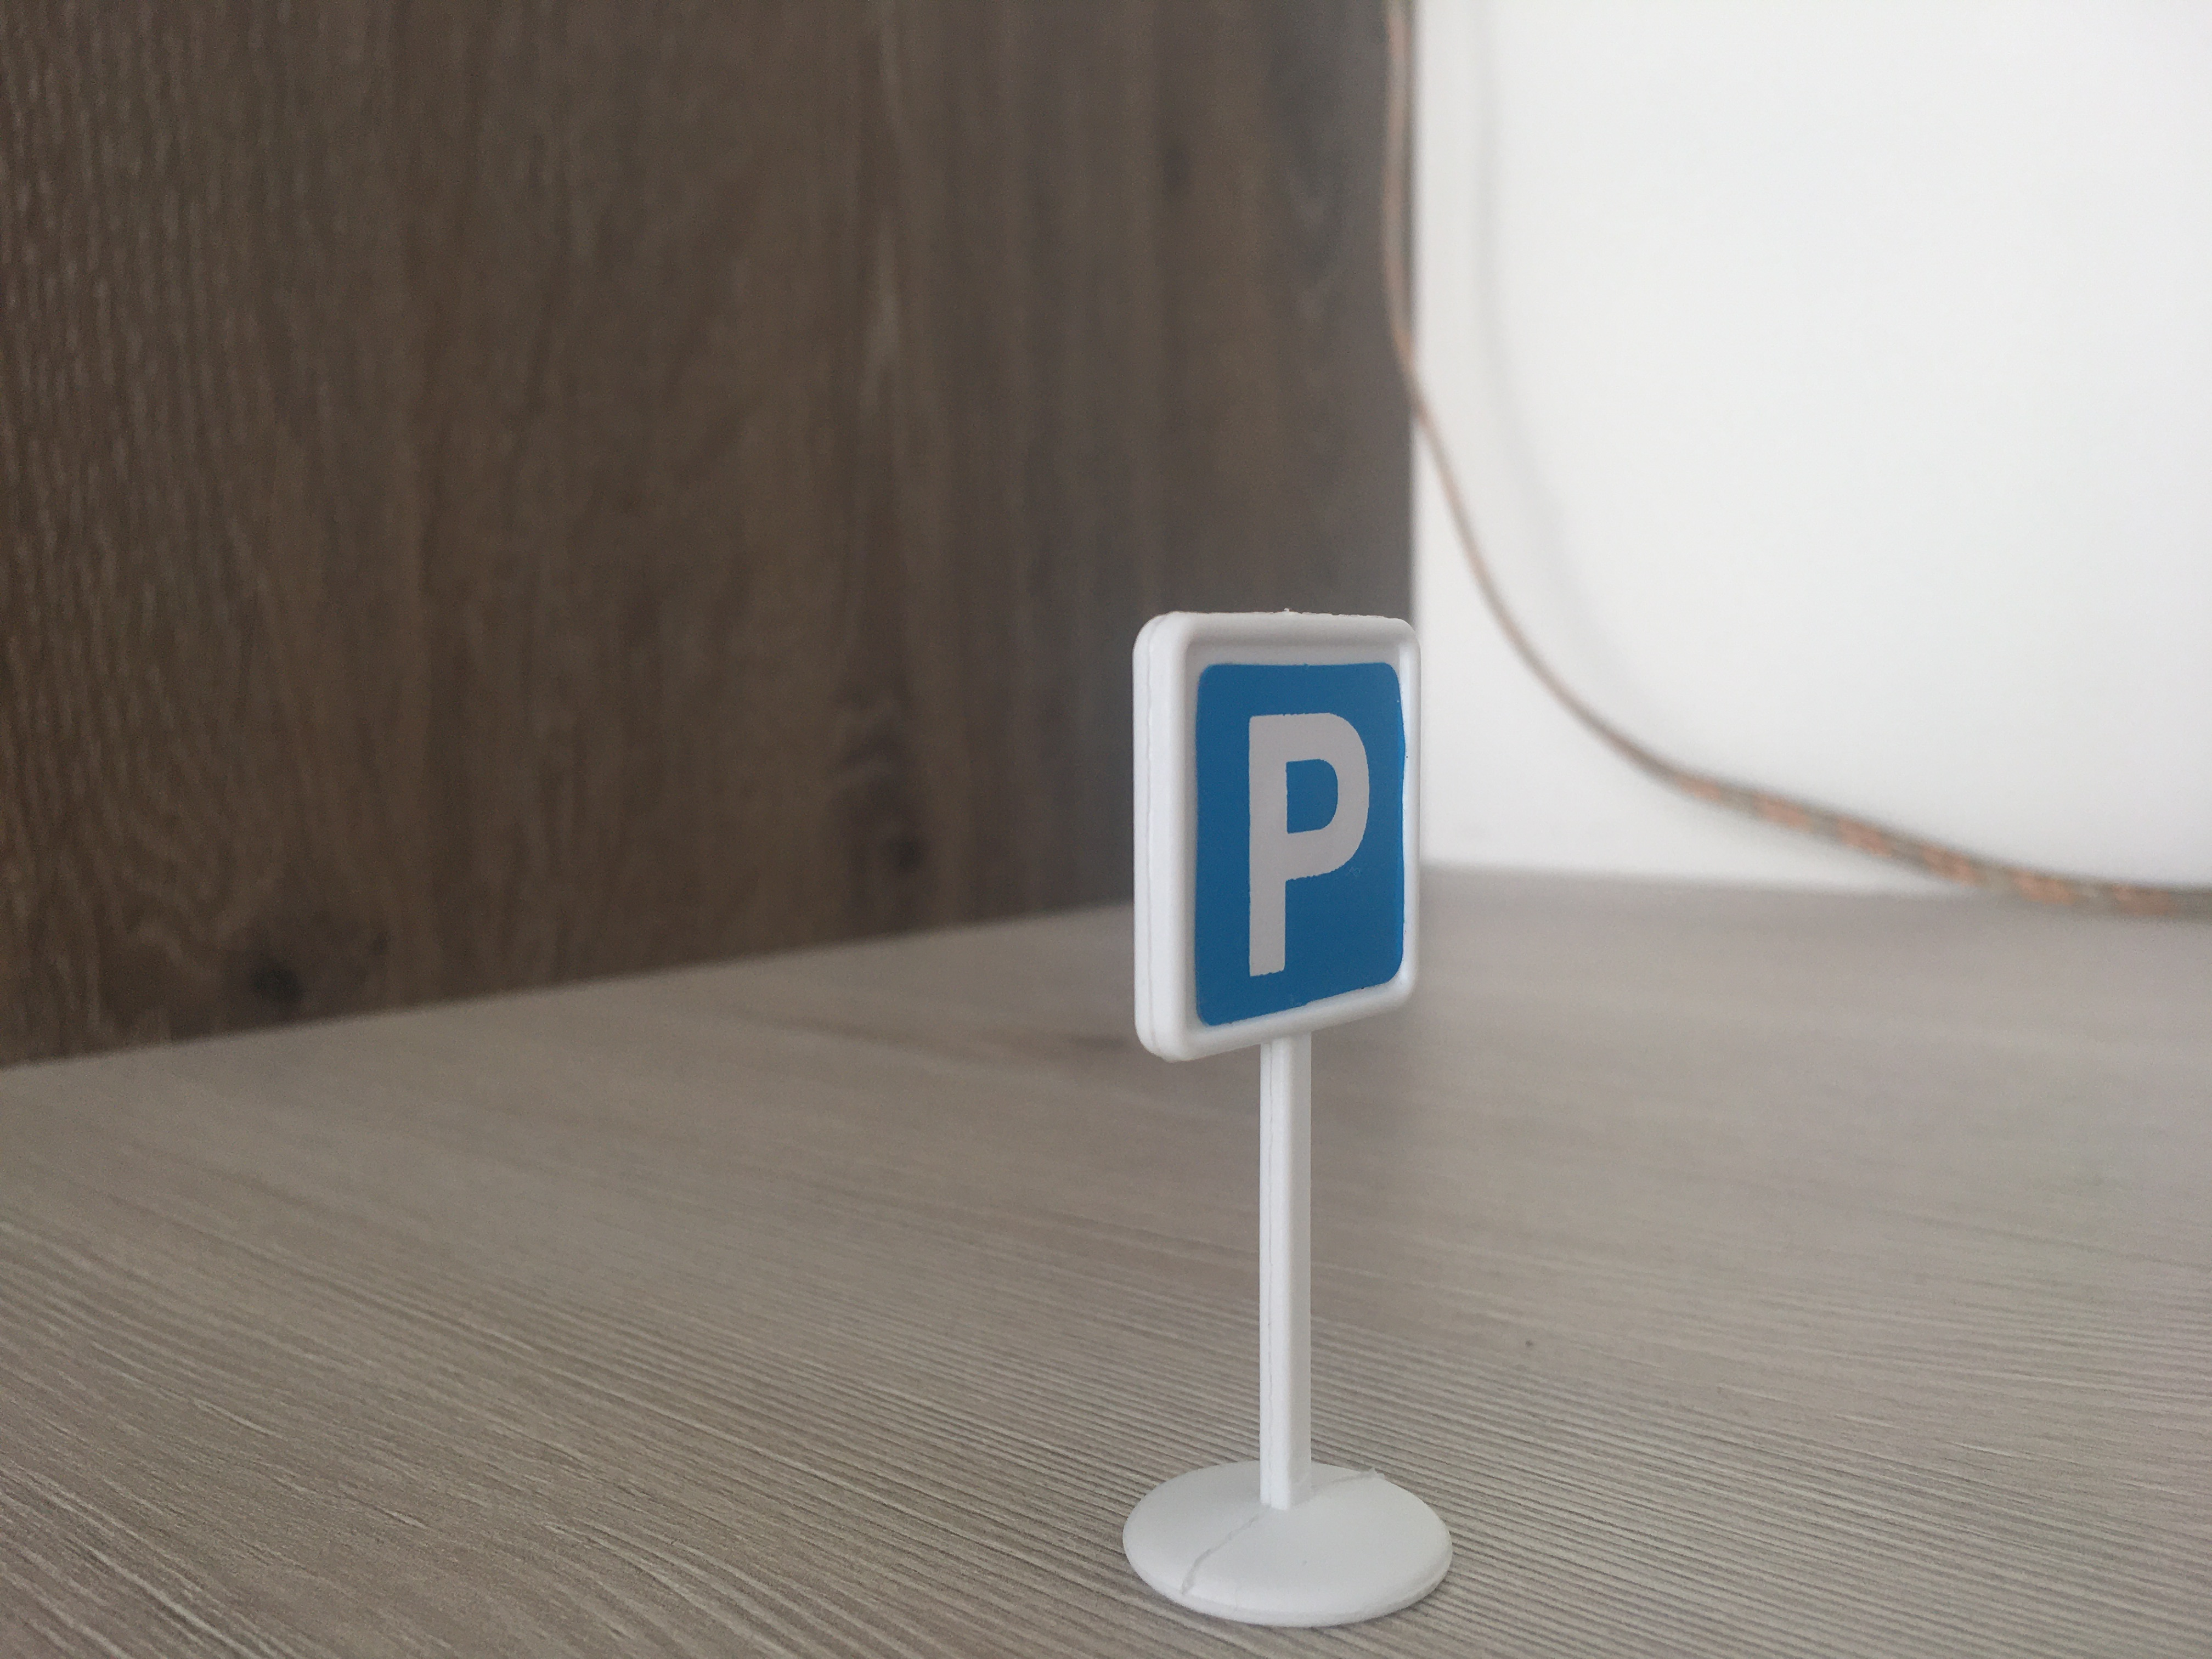parking: (1127, 612, 1420, 1063)
